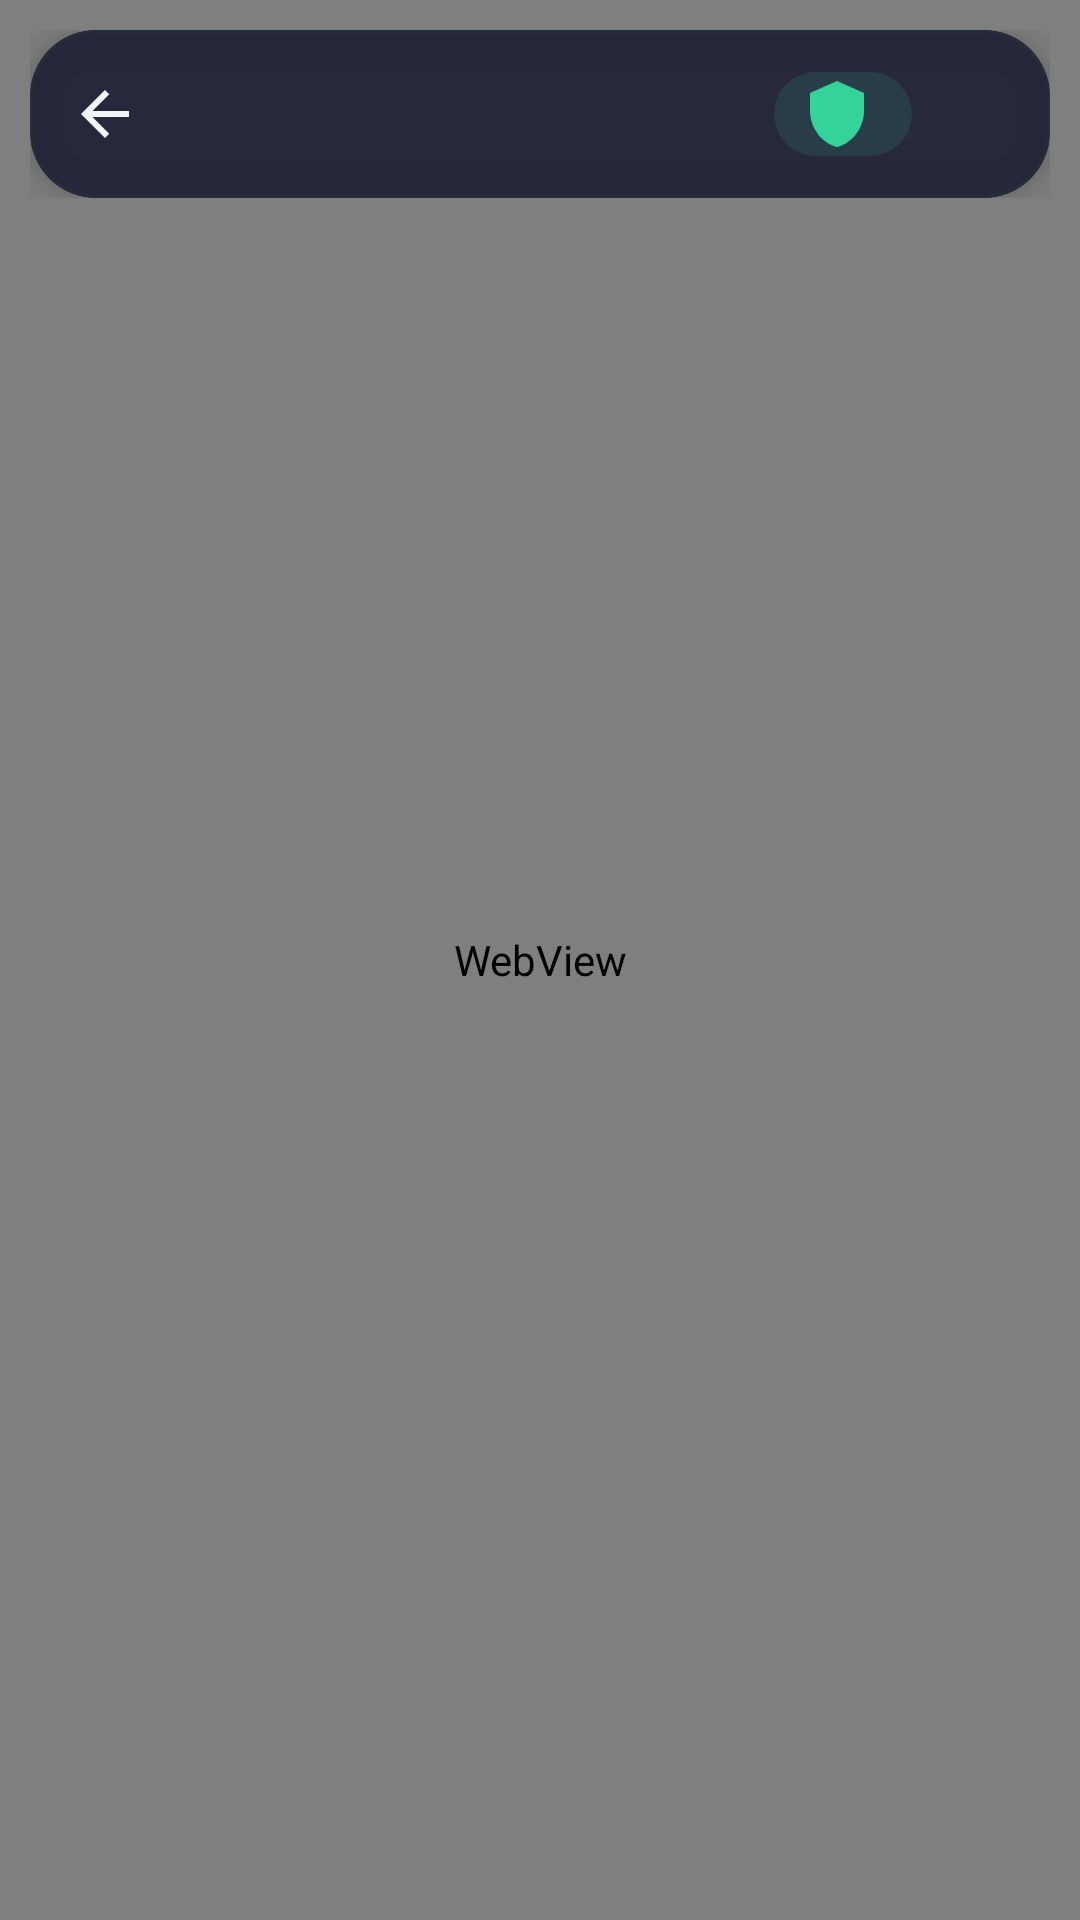

Icon bounding boxes for this 1080 x 1920 phone screenshot, format {"x1": x1, "y1": y1, "x2": x2, "y2": y2}:
Back: {"x1": 81, "y1": 90, "x2": 129, "y2": 138}
